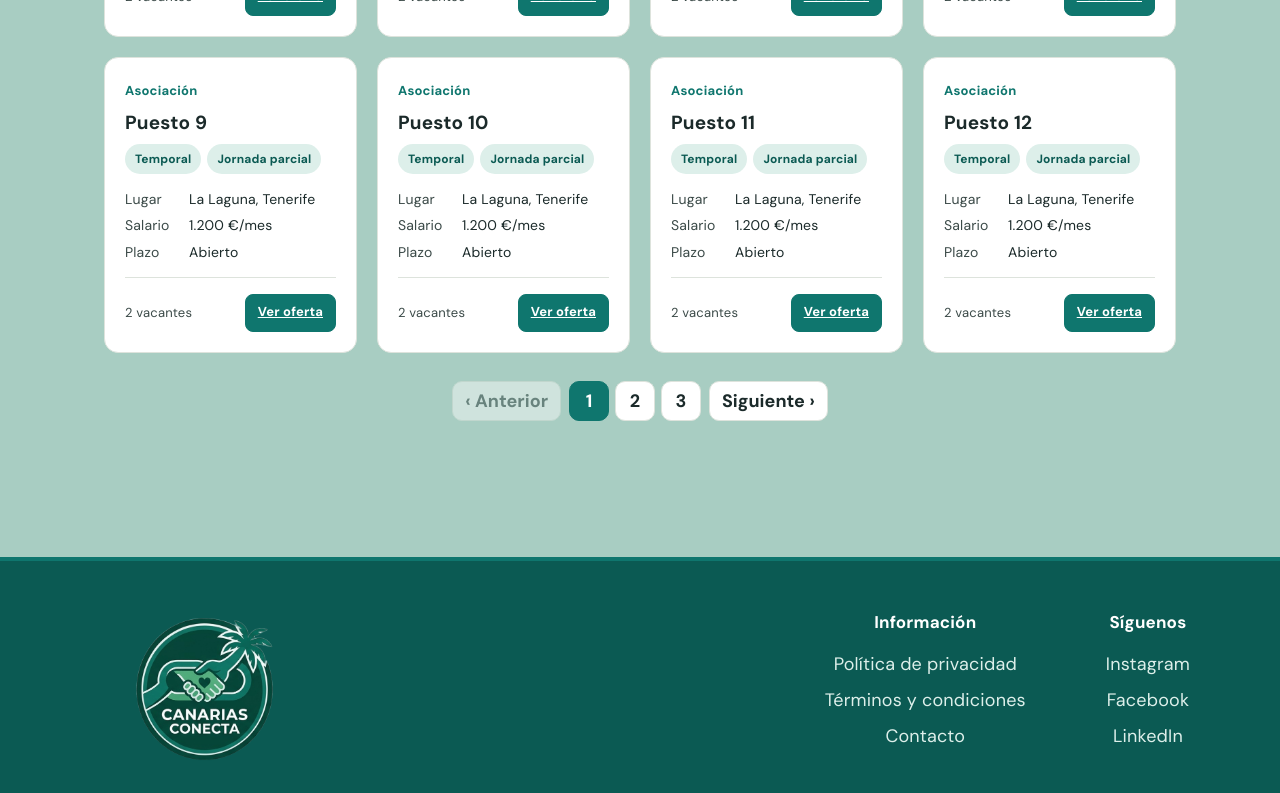
it: Empleo (voluntario): paginacion del catalogo › avanza y retrocede de pagina pidiendo cada una a la API
(page scrolled)
Click the button "Siguiente ›" at (768, 401), box [709,381,828,421]
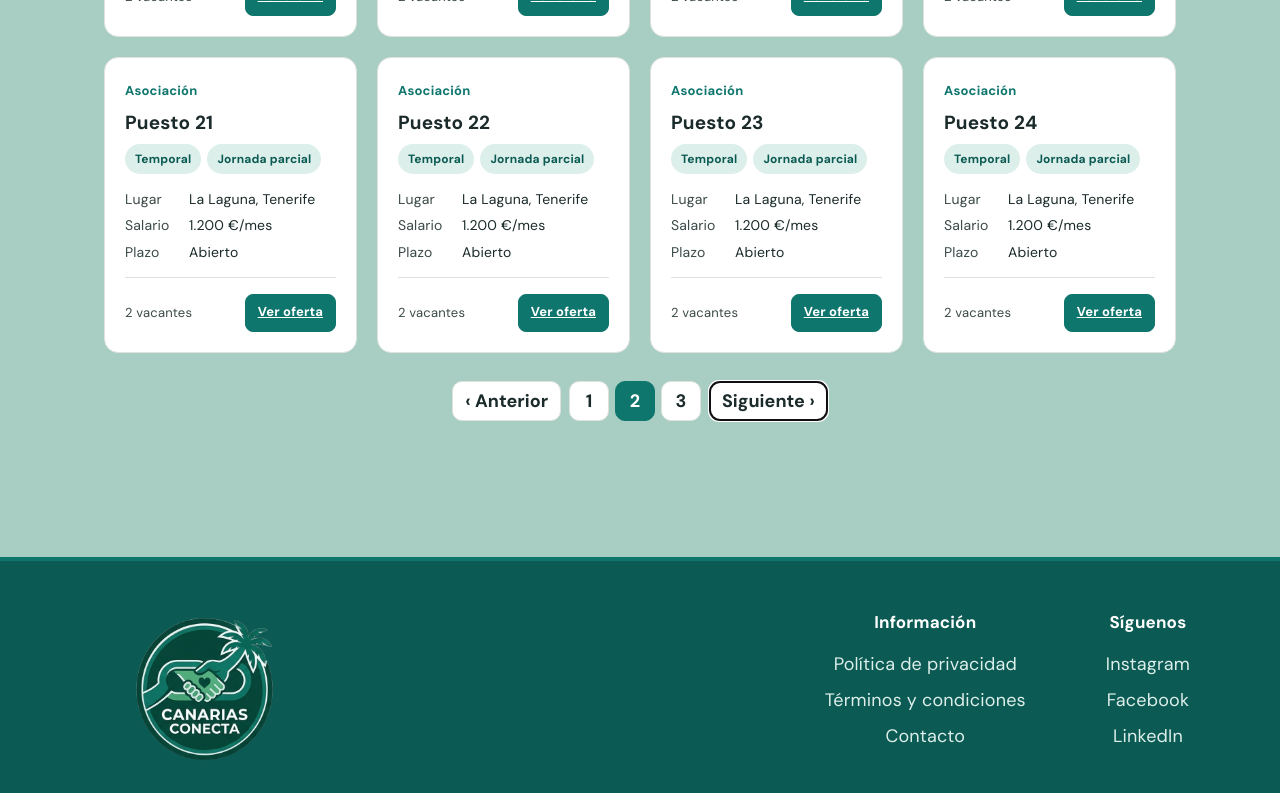
Expected: the text "Puesto 1" is not shown
Click the button named "Página 3" at (681, 401), box [661,381,701,421]
(page scrolled)
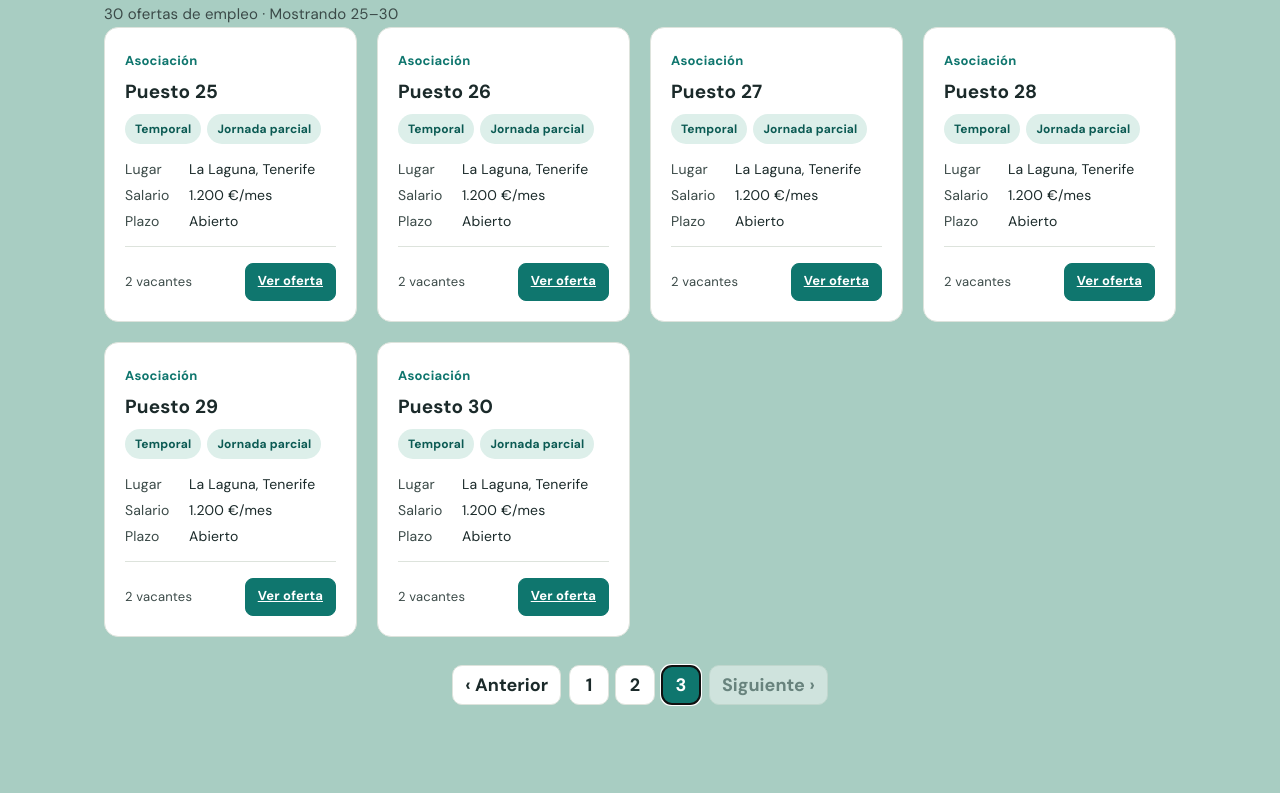
Expected: the text "30 ofertas de empleo · Mostrando 25–30" is shown, [104,4,398,24]
Expected: the button "Siguiente ›" is disabled, [709,665,828,705]
Click the button "‹ Anterior" at (507, 685), box [452,665,561,705]
(page scrolled)
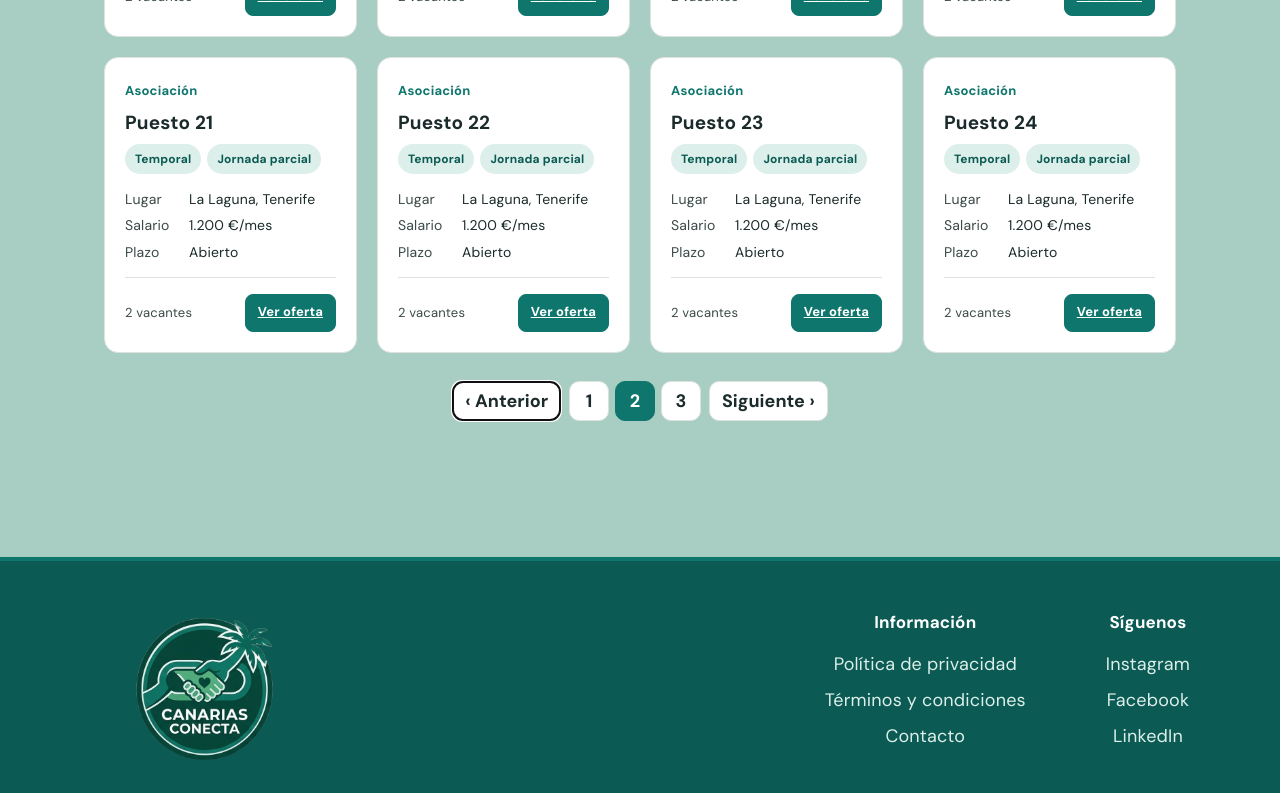
Expected: the button named "Página 2" is marked as current, [615,381,655,421]
